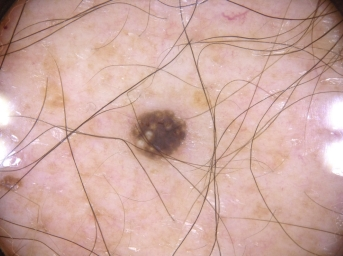seborrheic keratosis: (113, 96, 202, 167)
